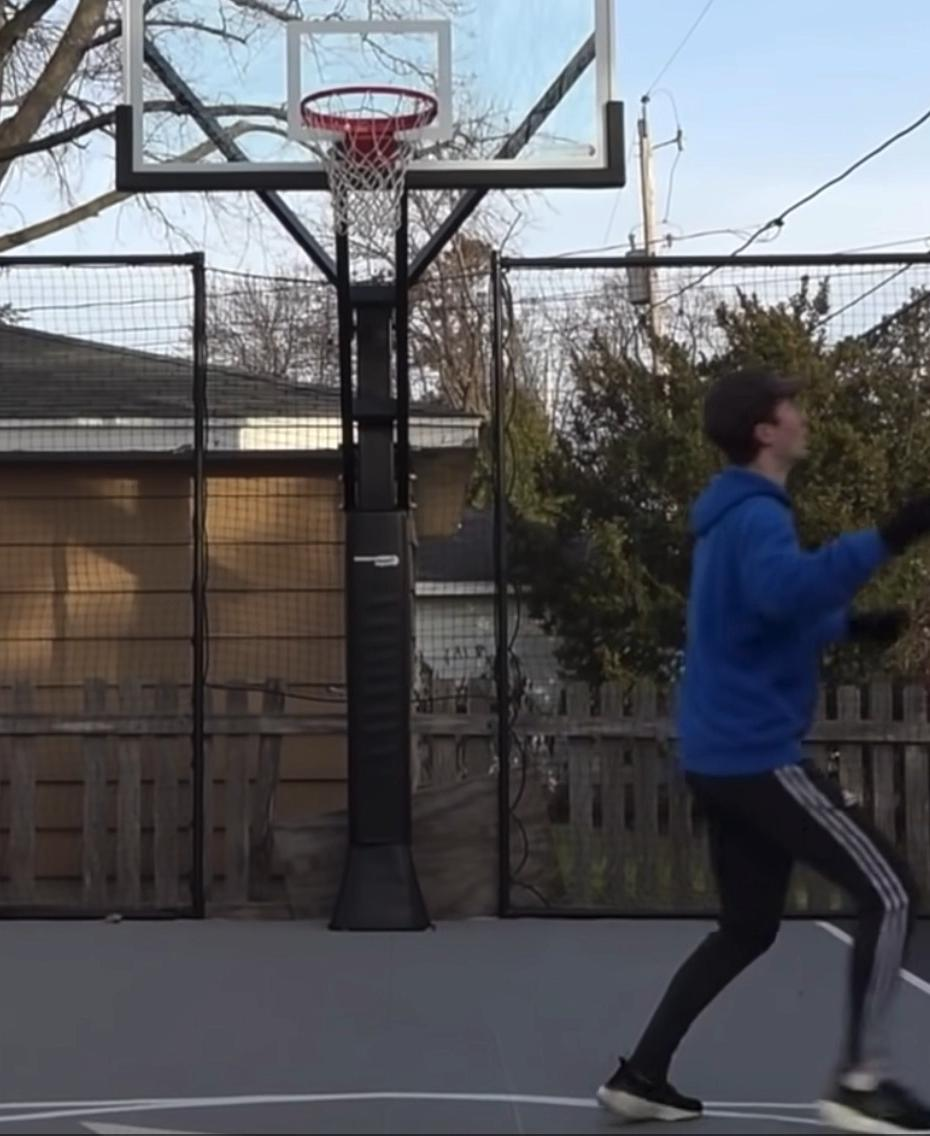foot: (593, 1052, 709, 1126), (817, 1067, 930, 1136)
person: (597, 372, 930, 1136)
